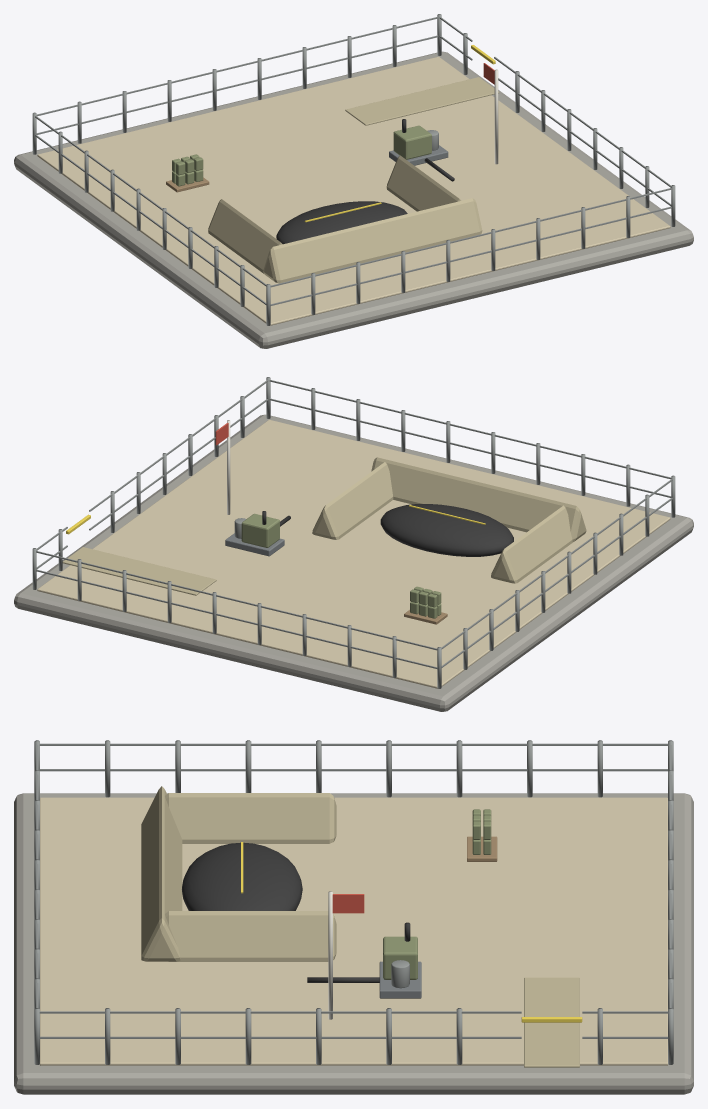
The model's file is fueldepot_2.glb.
3 views of the same model, one above another, from view 1: azimuth 30°, elevation 25°; view 2: azimuth 150°, elevation 25°; view 3: azimuth 270°, elevation 25° (orthographic). The views are drawn at different scales.
Visible parts, largest first — view 1: Cube.001, Cube, prism, Cube.002, Sphere, prism.001, prism.002, Cube.005, Cube.020, Cube.024, Cube.025, Cube.019 (+3 smaller); view 2: Cube.001, Cube, prism, Sphere, prism.001, prism.002, Cube.002, Cube.005, Cube.019, Cube.025, Cube.024, Cube.020 (+4 smaller); view 3: Cube.001, Cube, prism.001, prism.002, Sphere, prism, Cube.002, Cube.021, Cube.026, Cube.028, Cube.023, Cube.005 (+5 smaller).
Part boxes in pixels (left/top/right/bottom): Cube.001: left=37, top=56, right=670, bottom=325; Cube: left=14, top=51, right=693, bottom=348; prism: left=263, top=198, right=482, bottom=283; Cube.002: left=345, top=77, right=499, bottom=125; Sphere: left=276, top=201, right=407, bottom=244; prism.001: left=208, top=199, right=282, bottom=273; prism.002: left=386, top=155, right=461, bottom=211; Cube.005: left=393, top=125, right=431, bottom=159; Cube.020: left=270, top=206, right=671, bottom=305; Cube.024: left=36, top=17, right=438, bottom=116; Cube.025: left=270, top=188, right=671, bottom=287; Cube.019: left=36, top=35, right=438, bottom=134; Cube.001: left=37, top=419, right=670, bottom=688; Cube: left=14, top=414, right=693, bottom=711; prism: left=371, top=457, right=586, bottom=541; Sphere: left=380, top=504, right=513, bottom=556; prism.001: left=491, top=505, right=573, bottom=583; prism.002: left=312, top=462, right=393, bottom=539; Cube.002: left=62, top=547, right=216, bottom=595; Cube.005: left=241, top=513, right=279, bottom=547; Cube.019: left=36, top=569, right=437, bottom=668; Cube.025: left=269, top=380, right=671, bottom=479; Cube.024: left=36, top=551, right=437, bottom=650; Cube.020: left=269, top=398, right=671, bottom=497; Cube.001: left=39, top=797, right=668, bottom=1065; Cube: left=14, top=793, right=693, bottom=1094; prism.001: left=165, top=793, right=336, bottom=843; prism.002: left=165, top=911, right=336, bottom=961; Sphere: left=182, top=842, right=302, bottom=910; prism: left=141, top=786, right=182, bottom=961; Cube.002: left=524, top=977, right=579, bottom=1067; Cube.021: left=39, top=769, right=668, bottom=771; Cube.026: left=39, top=743, right=668, bottom=745; Cube.028: left=39, top=1011, right=521, bottom=1013; Cube.023: left=39, top=1036, right=521, bottom=1038; Cube.005: left=383, top=936, right=417, bottom=979.
Size of the model in its own units: 2.92 by 0.715 by 2.92.
